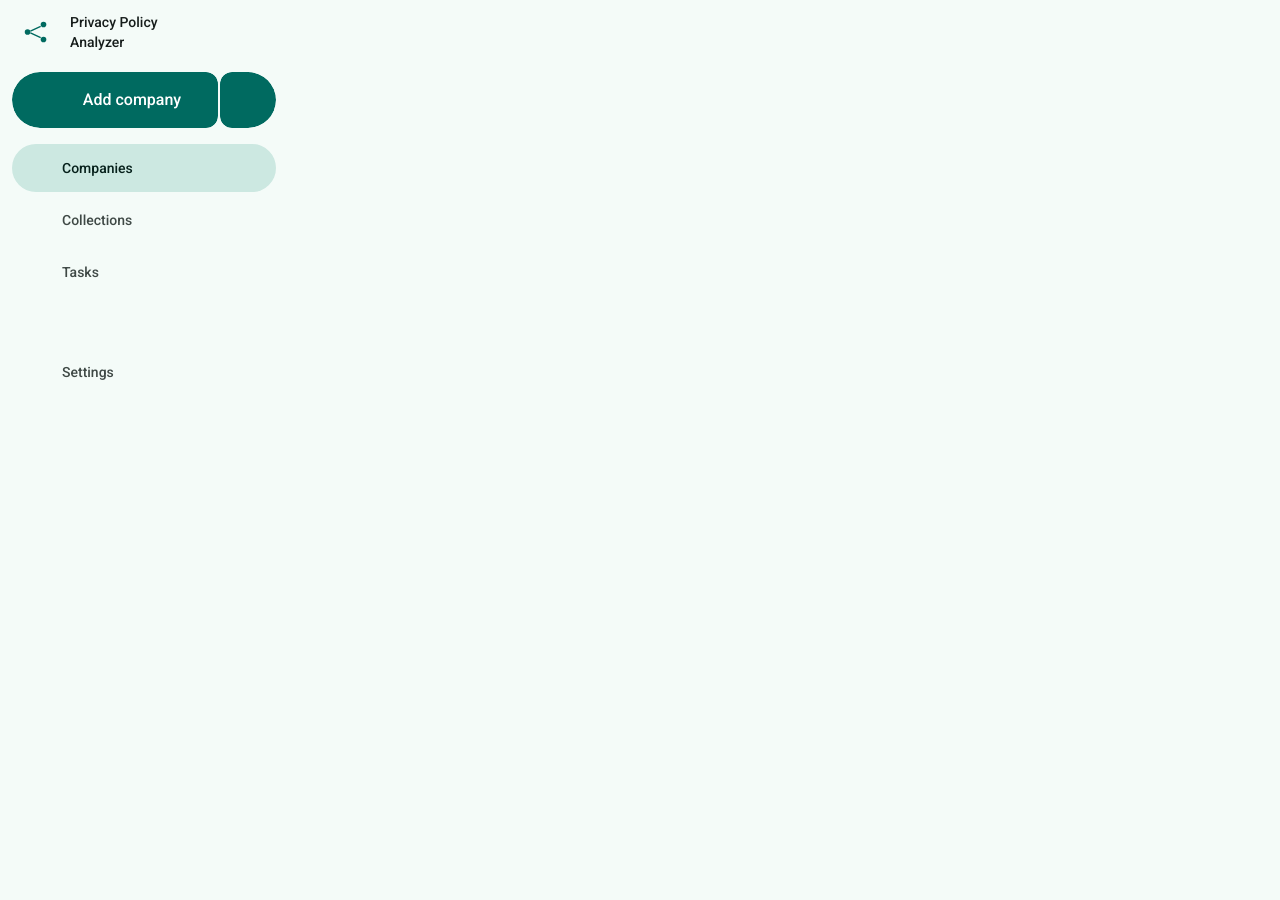
GlobalNavigationRail › light dismisses the split-button menu
The image size is (1280, 900).
Click the button named "More ways to add companies" at (248, 100), box [220,72,276,128]
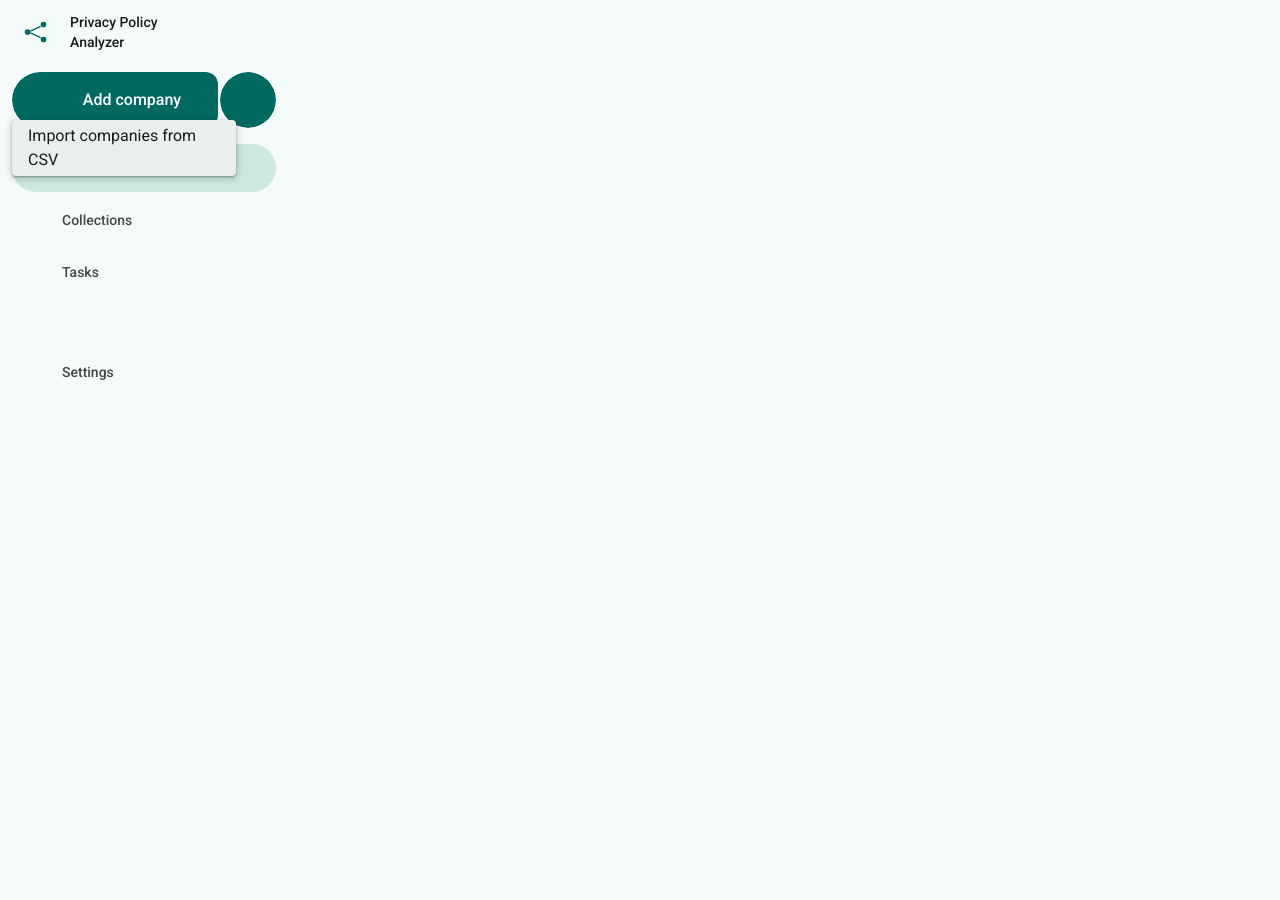
Expected: the menu item "Import companies from CSV" is shown, [16,124,232,172]
Click the element that starts with "Privacy Policy" at (640, 450), box [0,0,1279,899]
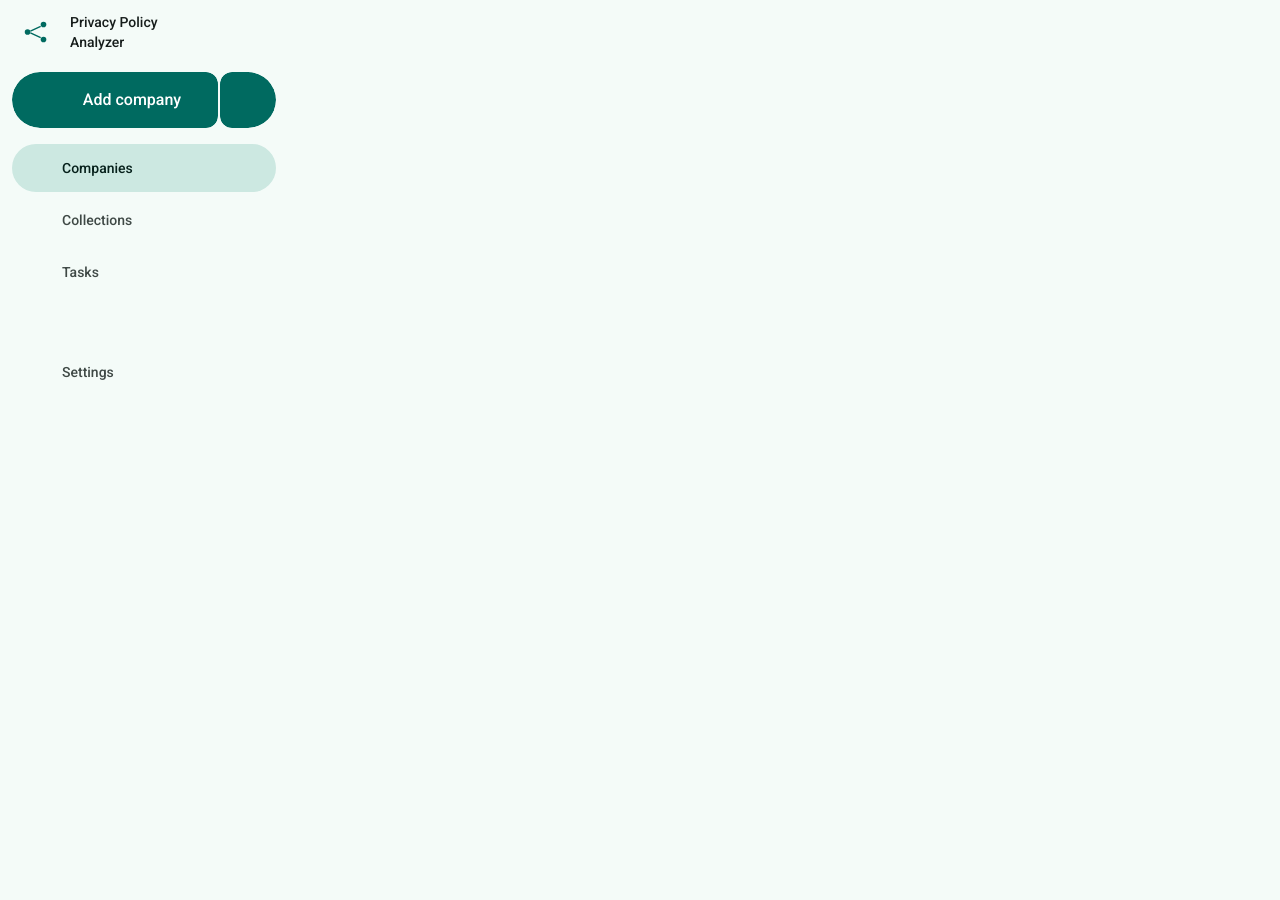
Expected: the menu item "Import companies from CSV" is gone
